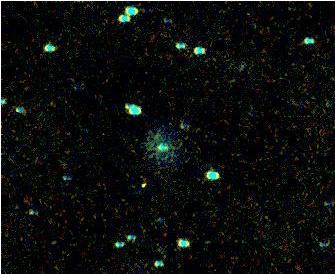star: (127, 170, 157, 200)
